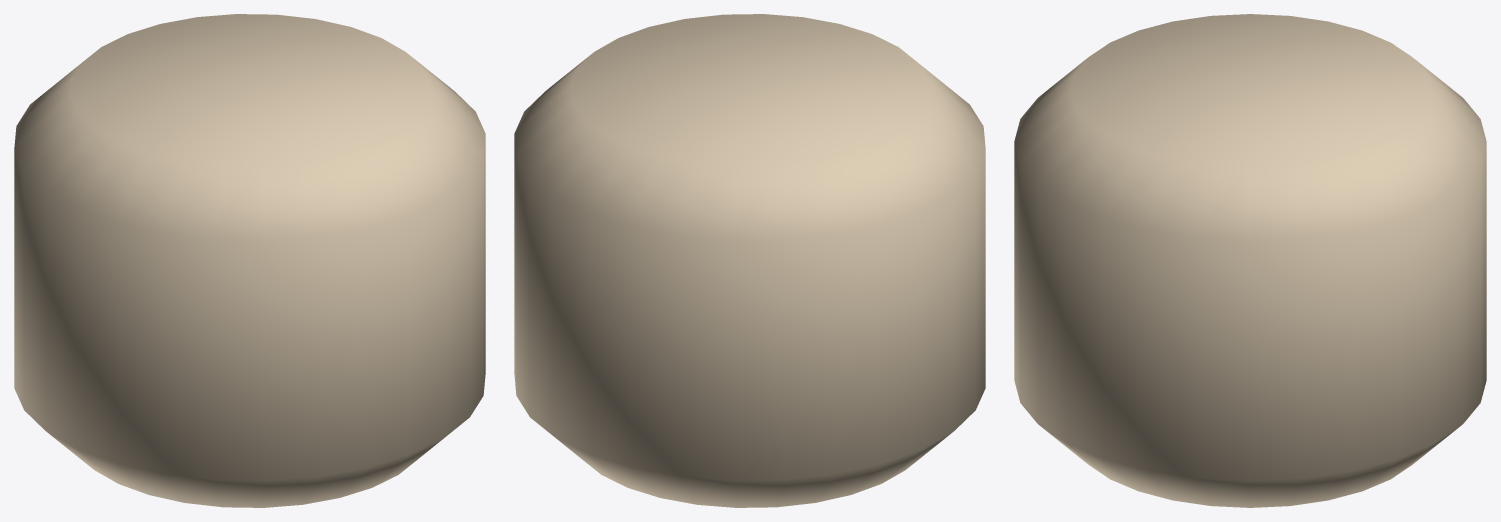
The model's file is i_pouf_0.glb.
The picture shows the model from 3 angles, left to right: view 1: azimuth 30°, elevation 25°; view 2: azimuth 150°, elevation 25°; view 3: azimuth 270°, elevation 25°; orthographic projection.
Visible parts, largest first — view 1: o; view 2: o; view 3: o.
Part boxes in pixels (x1,y1,x2,y2): o: [14, 14, 485, 507]; o: [514, 14, 985, 507]; o: [1014, 14, 1486, 507].
Bounding box in the file's own units: 0.5 × 0.4 × 0.5.
